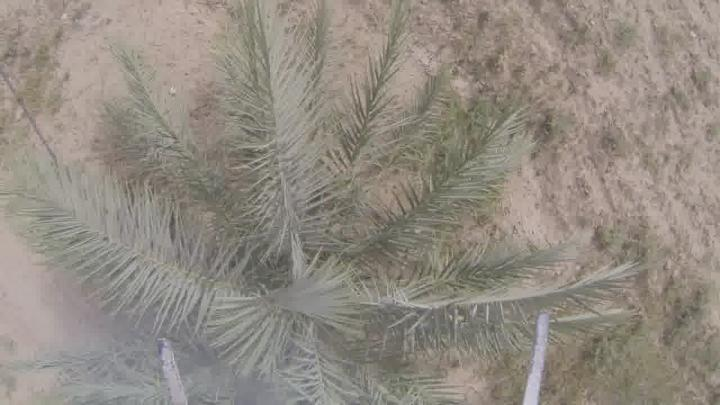Date-Palm-Crown: (117, 129, 459, 405)
